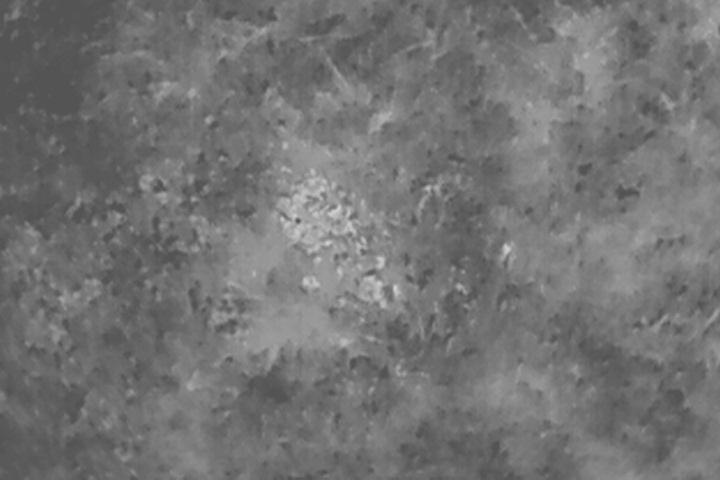landmine: (282, 199, 315, 241)
